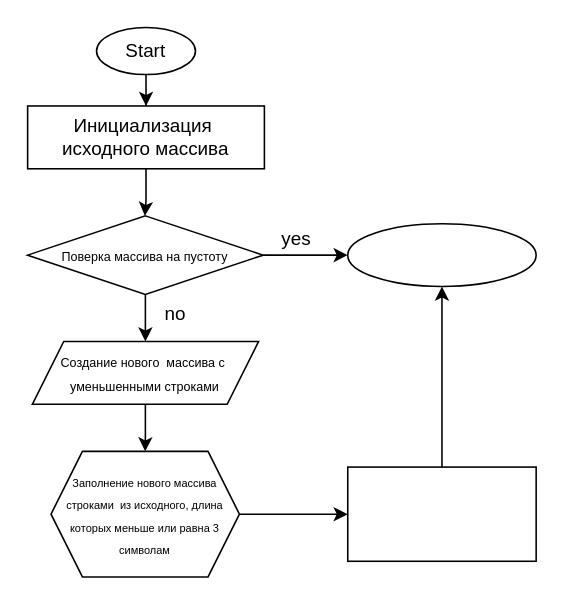
The diagram is 564 pixels wide and 604 high, and some of its shapes have lost their labels. The shapes that lost their labels are listed below. From the top down, each one's box as (x1, y1, x2, y2) in pixels, then its label:
(346, 222, 536, 287): Finish
(346, 466, 536, 561): Вывод нового массива
